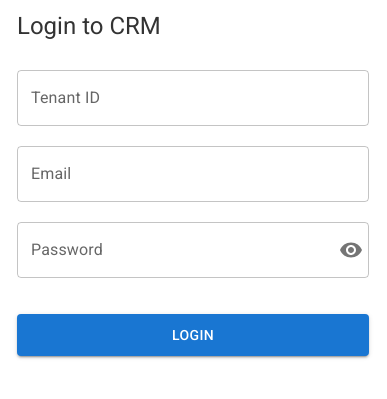
LoginForm Component › Form Validation › should validate tenant ID format
Type "invalid-tenant" into the field labelled "Tenant ID" at (193, 98), box x1=17 y1=70 x2=369 y2=126
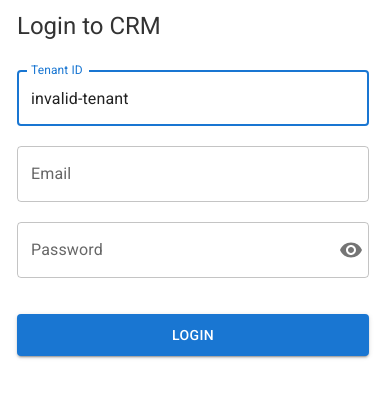
Press Tab
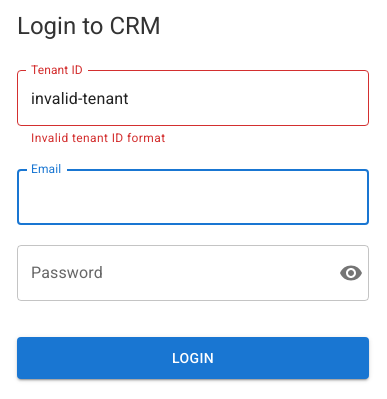
expect the text "Invalid tenant ID format" is shown: met, box x1=31 y1=131 x2=166 y2=145
